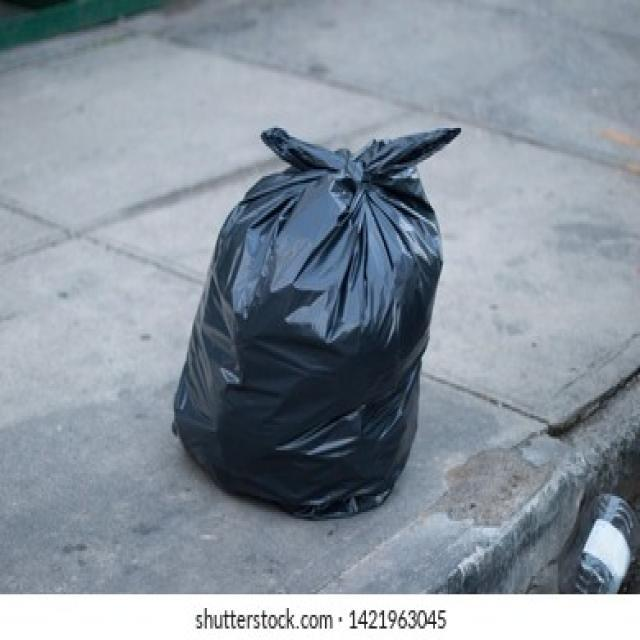Vinyl: (166, 117, 462, 526)
